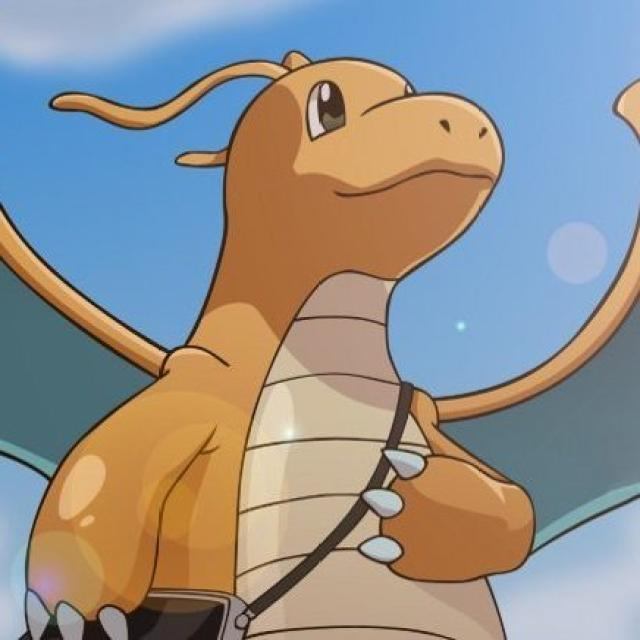Dragonite: (21, 49, 538, 636)
